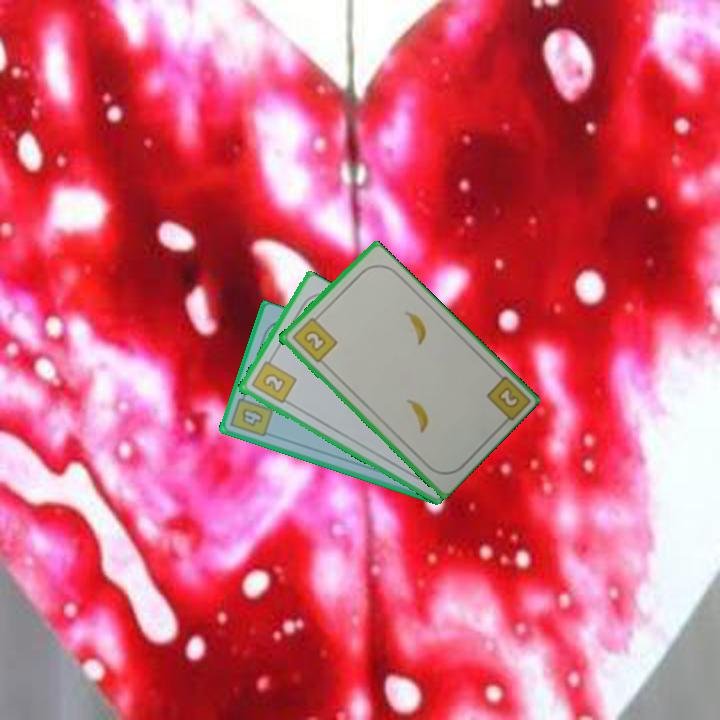2b: (288, 311, 340, 365), (247, 353, 299, 406), (494, 383, 522, 411)
4b: (227, 389, 276, 440)
